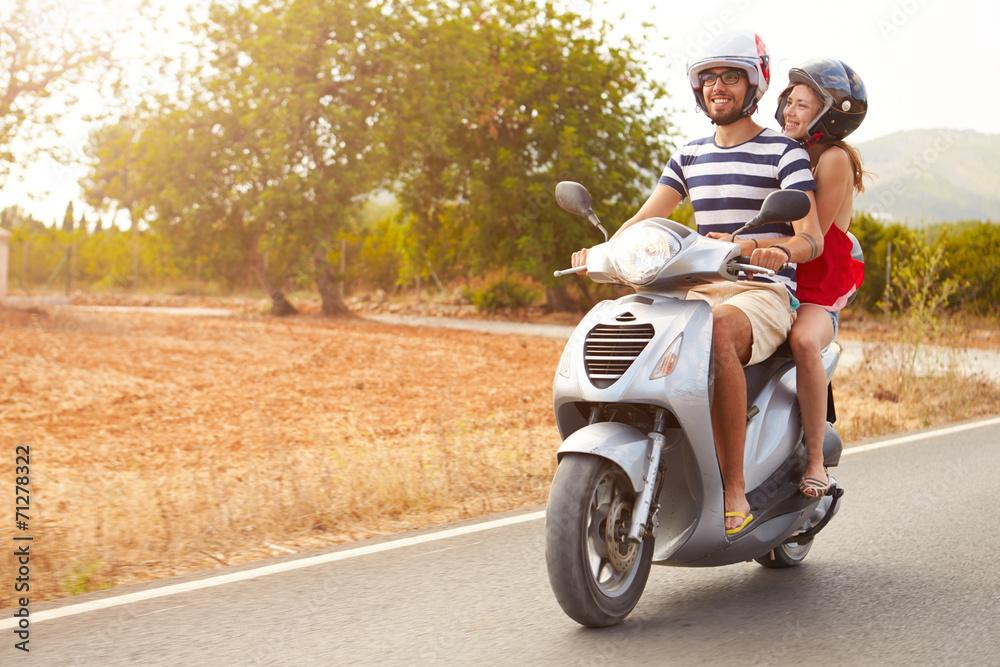helmet: (774, 55, 869, 151), (685, 23, 771, 127)
